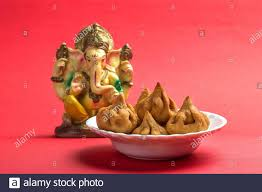modak: (171, 92, 209, 134), (101, 96, 136, 130), (138, 83, 174, 116), (132, 112, 167, 134)
